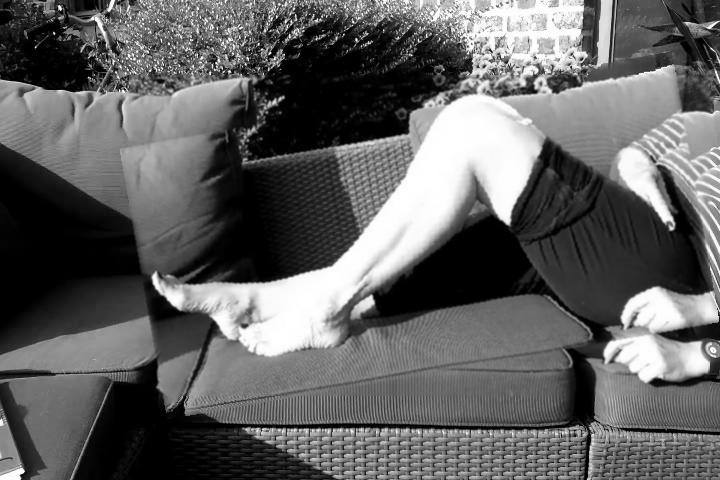lower_body: (130, 76, 711, 397)
